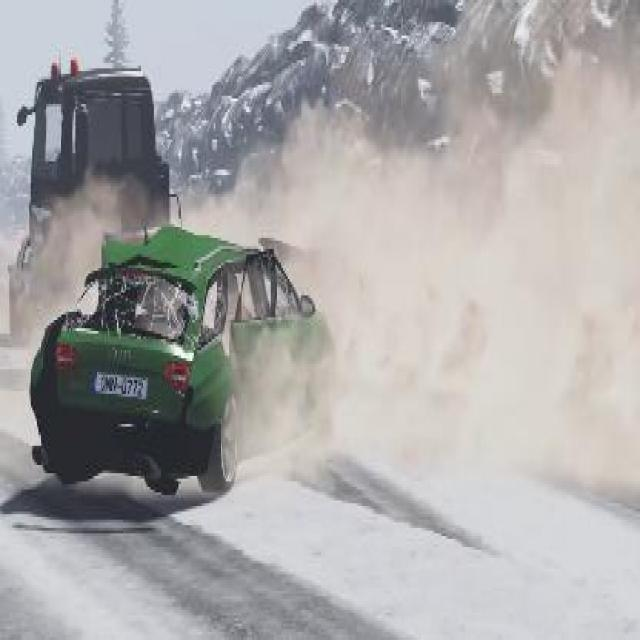accident: (8, 44, 344, 487)
